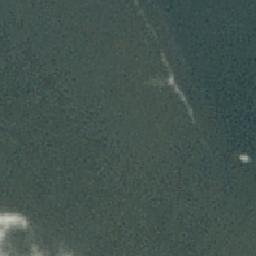cloud: (1, 212, 25, 256), (53, 237, 72, 256), (27, 241, 43, 256), (25, 220, 39, 237)
debris: (178, 91, 193, 123), (164, 55, 174, 85), (237, 151, 251, 165)
